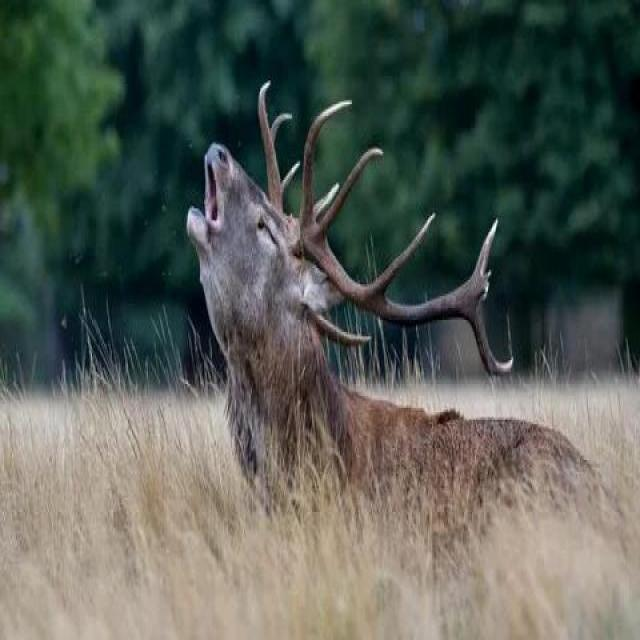deer: (156, 101, 586, 640)
